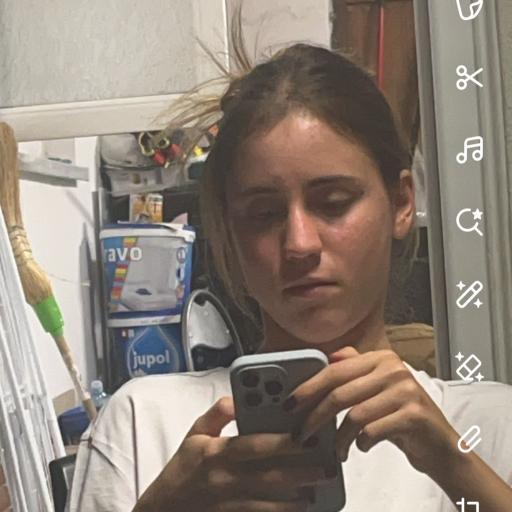masa: (222, 88, 392, 342)
